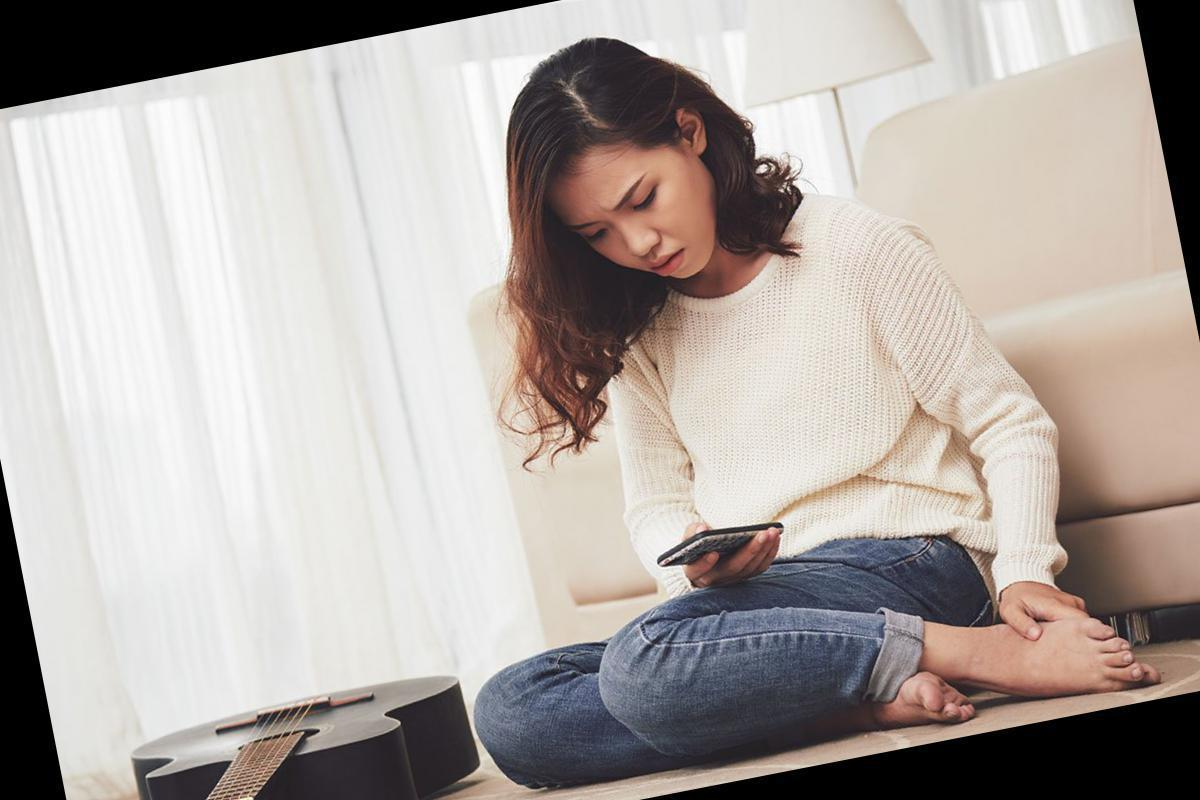Sober: (561, 159, 713, 279)
